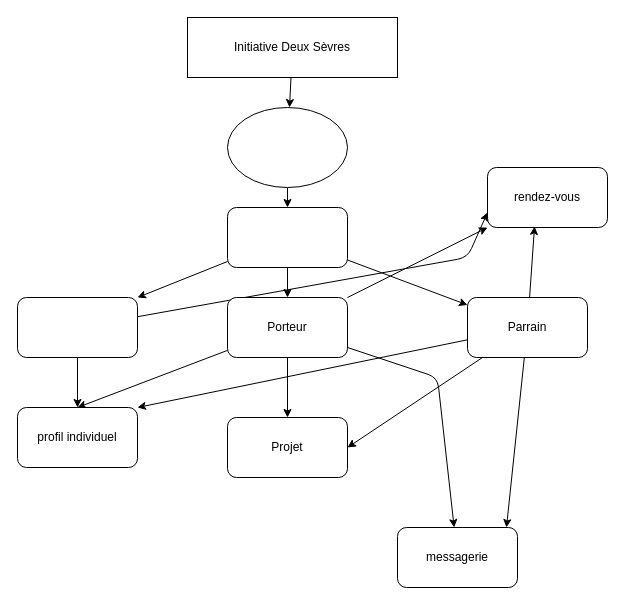
This 625x605 diagram has some shape labels left out. Each missing label, with the centre of its shape:
Admin: (77,327)
Authentification: (287,147)
Users avec des Roles: (287,237)
